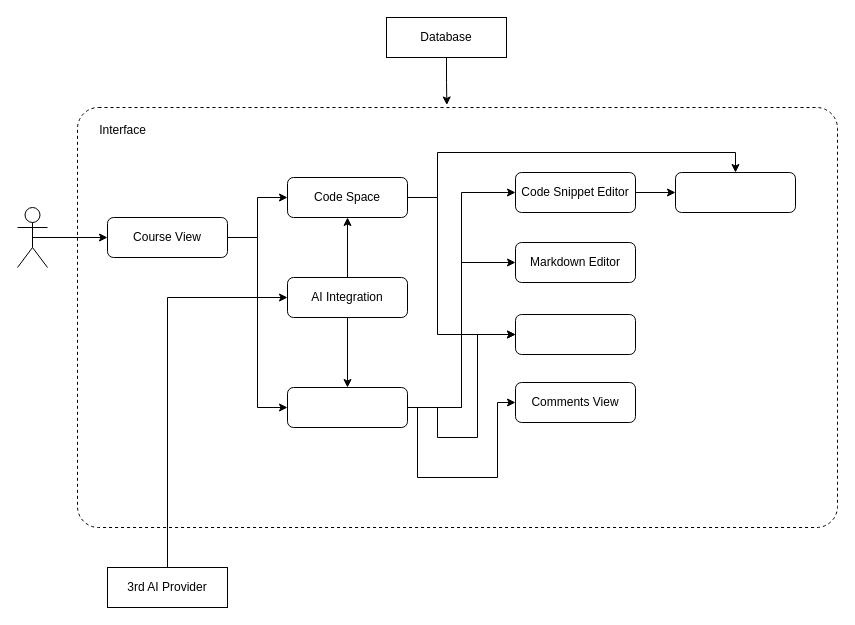
Image size: 855x625. Some labels were removed from this diagram. Each missing label, with the centre of its shape:
"Code Editor" goes at point 735,192.
"Material Reader" goes at point 347,407.
"PDF Reader" goes at point 575,334.
"User" goes at point 32,237.
